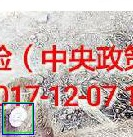text: (3, 102, 32, 132)
